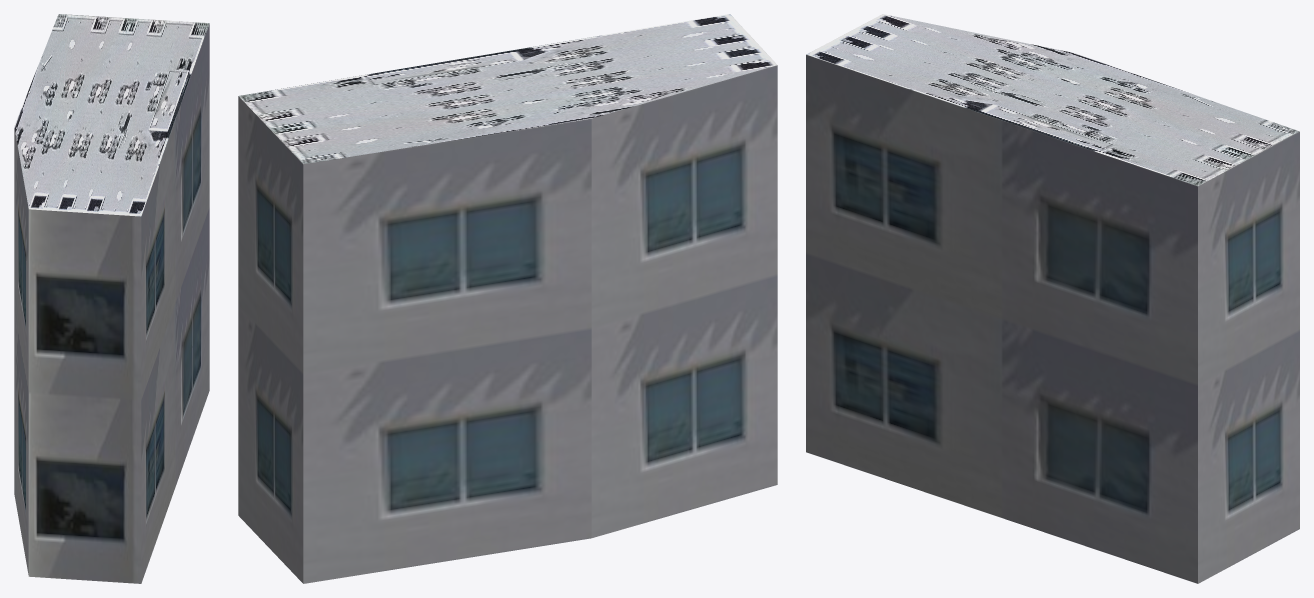
Rendered from ResTex__2191.fbx.
3 views of the same model, side by side, from view 1: azimuth 30°, elevation 25°; view 2: azimuth 150°, elevation 25°; view 3: azimuth 270°, elevation 25° (orthographic). The views are drawn at different scales.
Parts seen in each view (by area): view 1: CityEngineMaterial_10_m, CityEngineMaterial_8_m; view 2: CityEngineMaterial_10_m, CityEngineMaterial_8_m; view 3: CityEngineMaterial_10_m, CityEngineMaterial_8_m.
Part boxes in pixels (x1,y1,x2,y2): CityEngineMaterial_10_m: (14, 24, 209, 583); CityEngineMaterial_8_m: (14, 14, 209, 216); CityEngineMaterial_10_m: (238, 65, 777, 583); CityEngineMaterial_8_m: (239, 14, 777, 164); CityEngineMaterial_10_m: (806, 54, 1299, 583); CityEngineMaterial_8_m: (806, 14, 1299, 186).
Size of the model in its own units: 5.58 by 6 by 6.76.
Materials: 2 (2 with a texture image).
